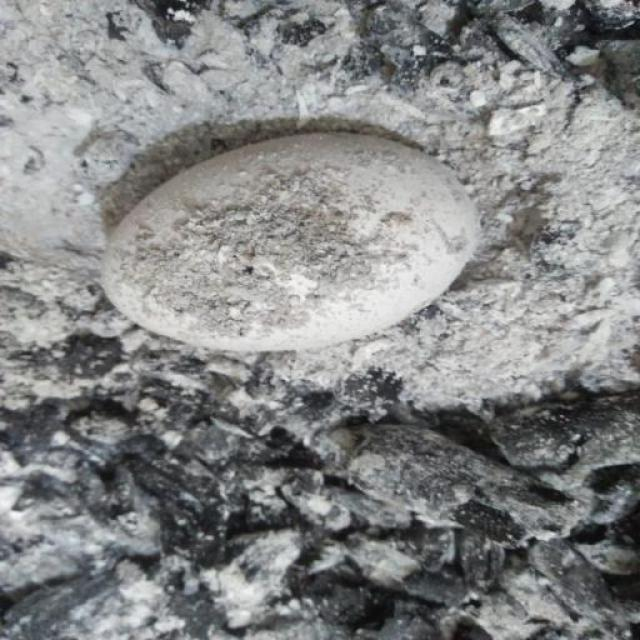telur: (95, 116, 486, 364)
